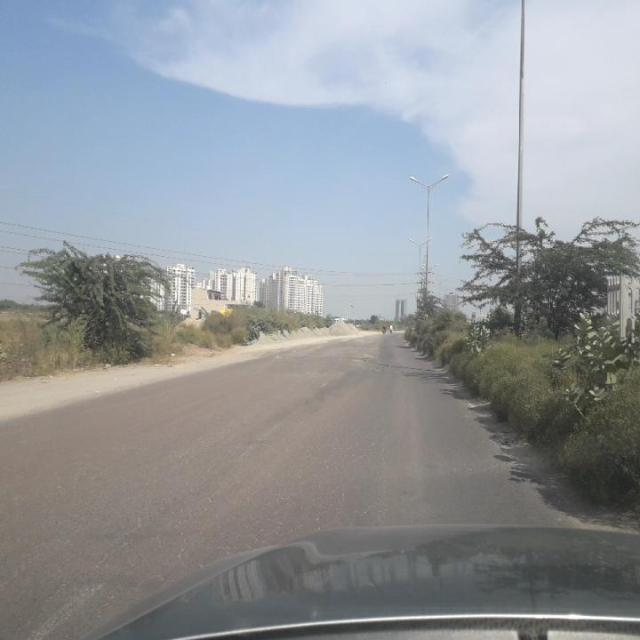D20: (9, 399, 411, 597)
D40: (336, 340, 379, 372)
D44: (26, 575, 106, 637)
